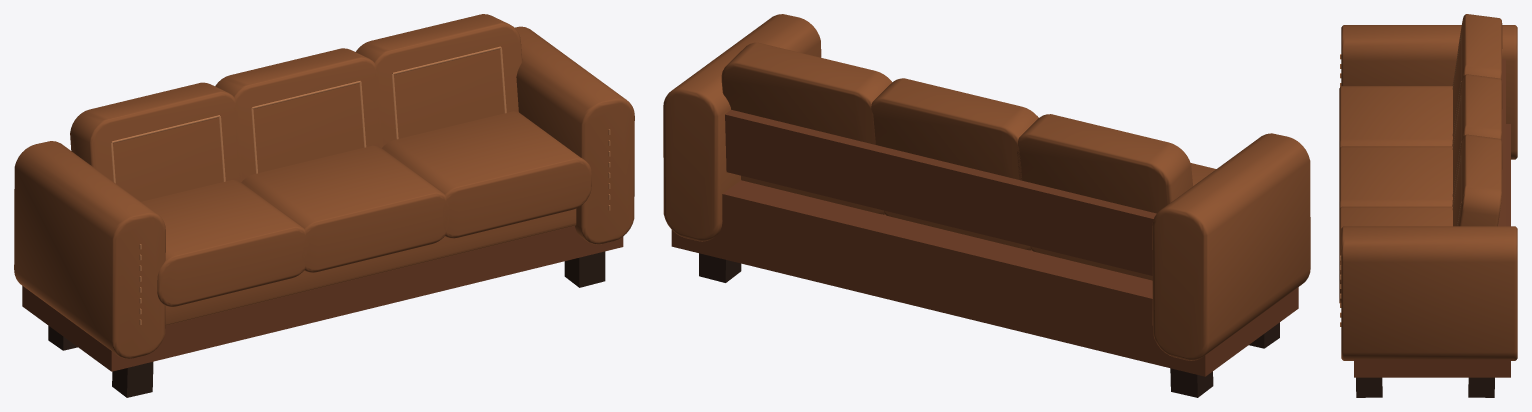
Rendered from cognac-leather-sofa-backDepth-min.glb.
The picture shows the model from 3 angles, left to right: view 1: azimuth 30°, elevation 25°; view 2: azimuth 150°, elevation 25°; view 3: azimuth 270°, elevation 25°; orthographic projection. The views are drawn at different scales.
Visible parts, largest first — view 1: sofa-part-28, sofa-part-4, seat-cushion-1-part-0, seat-cushion-2-part-0, back-cushion-2-part-0, back-cushion-3-part-0, back-cushion-1-part-0, seat-cushion-3-part-0, sofa-part-7, sofa-part-5, sofa-part-0, sofa-part-2; view 2: sofa-part-4, sofa-part-6, sofa-part-28, sofa-part-7, back-cushion-3-part-0, back-cushion-1-part-0, back-cushion-2-part-0, seat-cushion-3-part-0, sofa-part-3, sofa-part-1, seat-cushion-2-part-0, seat-cushion-1-part-0; view 3: sofa-part-7, sofa-part-28, seat-cushion-2-part-0, seat-cushion-3-part-0, back-cushion-1-part-0, sofa-part-4, back-cushion-2-part-0, back-cushion-3-part-0, seat-cushion-1-part-0, sofa-part-6, sofa-part-0, sofa-part-1.
Part boxes in pixels (x1,y1,x2,y2): sofa-part-28: [14, 141, 165, 358]; sofa-part-4: [22, 226, 623, 371]; seat-cushion-1-part-0: [382, 111, 591, 238]; seat-cushion-2-part-0: [241, 145, 448, 272]; back-cushion-2-part-0: [215, 48, 382, 182]; back-cushion-3-part-0: [70, 82, 242, 201]; back-cushion-1-part-0: [356, 14, 522, 146]; seat-cushion-3-part-0: [141, 180, 308, 306]; sofa-part-7: [515, 26, 634, 244]; sofa-part-5: [165, 209, 576, 325]; sofa-part-0: [564, 251, 605, 287]; sofa-part-2: [112, 362, 153, 397]; sofa-part-4: [671, 180, 1298, 376]; sofa-part-6: [725, 109, 1156, 275]; sofa-part-28: [1152, 133, 1310, 360]; sofa-part-7: [663, 14, 821, 241]; back-cushion-3-part-0: [1017, 114, 1192, 213]; back-cushion-1-part-0: [721, 42, 892, 144]; back-cushion-2-part-0: [871, 78, 1038, 180]; seat-cushion-3-part-0: [1030, 163, 1216, 280]; sofa-part-3: [1170, 368, 1213, 397]; sofa-part-1: [699, 253, 741, 282]; seat-cushion-2-part-0: [884, 210, 1030, 250]; seat-cushion-1-part-0: [741, 175, 884, 214]; sofa-part-7: [1341, 226, 1517, 360]; sofa-part-28: [1341, 25, 1517, 159]; seat-cushion-2-part-0: [1339, 146, 1452, 208]; seat-cushion-3-part-0: [1339, 86, 1452, 148]; back-cushion-1-part-0: [1452, 134, 1502, 226]; sofa-part-4: [1354, 124, 1510, 377]; back-cushion-2-part-0: [1452, 74, 1502, 202]; back-cushion-3-part-0: [1452, 14, 1502, 145]; seat-cushion-1-part-0: [1339, 206, 1452, 303]; sofa-part-6: [1498, 59, 1505, 226]; sofa-part-0: [1356, 377, 1382, 397]; sofa-part-1: [1468, 377, 1494, 397].
Bounding box in the file's own units: 2.64 × 1.07 × 0.886.
